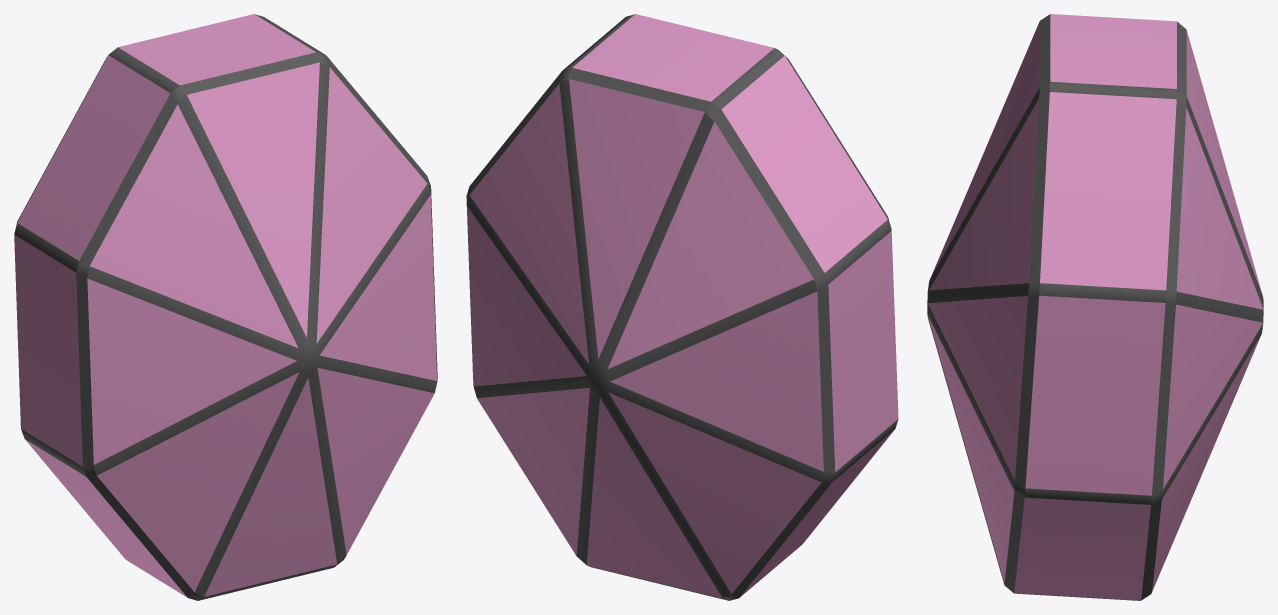
File: amythest_jewel.fbx
The picture shows the model from 3 angles, left to right: view 1: azimuth 30°, elevation 25°; view 2: azimuth 150°, elevation 25°; view 3: azimuth 270°, elevation 25°; orthographic projection. The views are drawn at different scales.
Visible parts, largest first — view 1: Amythest; view 2: Amythest; view 3: Amythest.
Part boxes in pixels (x1,y1,x2,y2): Amythest: (14,14,437,600); Amythest: (466,14,898,600); Amythest: (927,14,1263,600).
Size of the model in its own units: 6.84 by 9.39 by 5.51.
